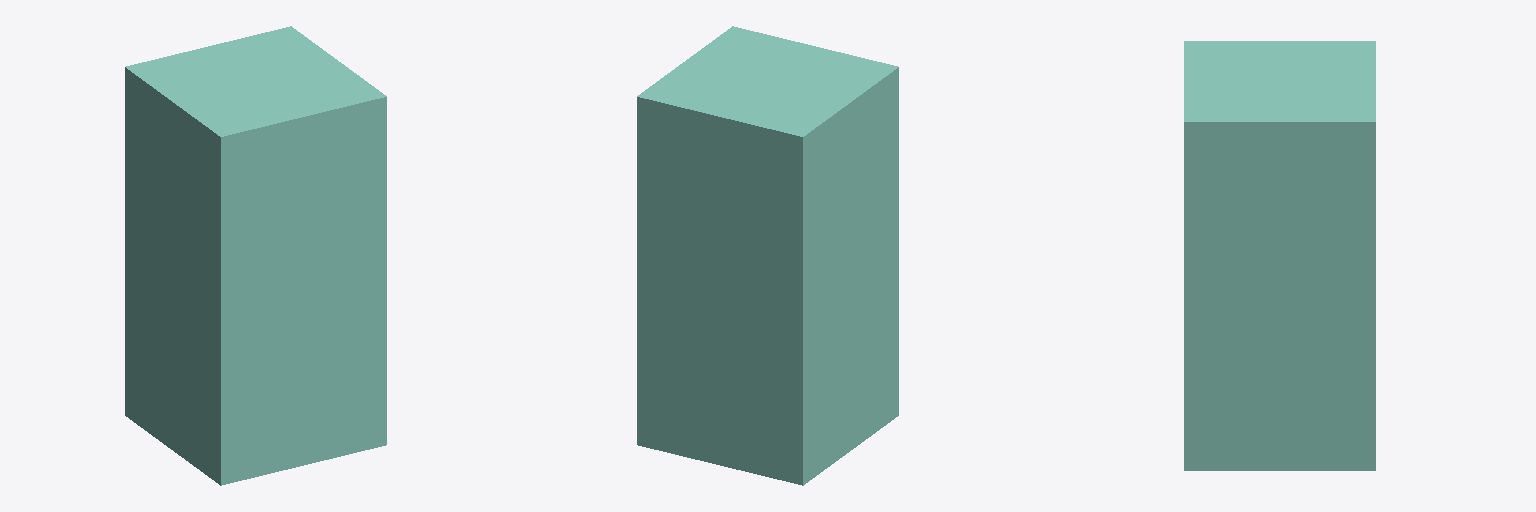
The picture shows the model from 3 angles: view 1: azimuth 30°, elevation 25°; view 2: azimuth 150°, elevation 25°; view 3: azimuth 270°, elevation 25°; orthographic projection.
Visible parts, largest first — view 1: object 1; view 2: object 1; view 3: object 1.
Boxes of the visible parts, box(x1,y1,x2,y2) form: object 1: box(125, 26, 386, 485); object 1: box(637, 26, 898, 485); object 1: box(1184, 41, 1375, 470).
Size of the model in its own units: 0.1 by 0.2 by 0.1.
Materials: 1 (1 with a texture image).